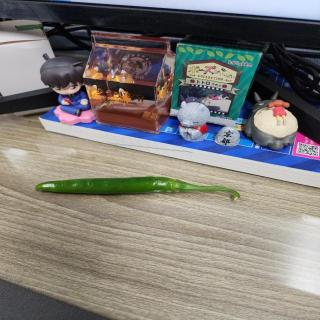Cabai Hijau: (40, 154, 237, 226)
